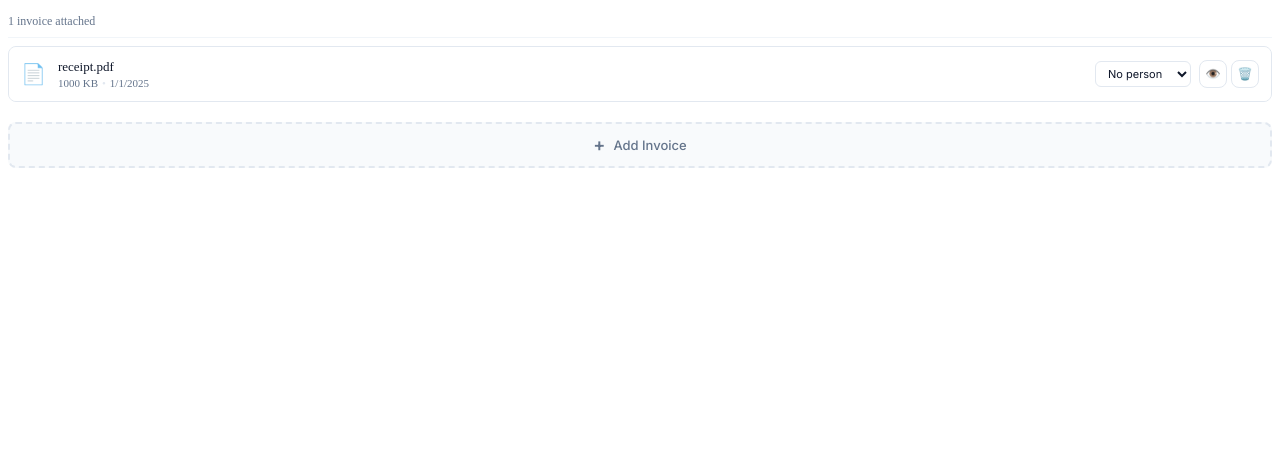
Test: InvoiceUpload Component › Upload with Person Selection › shows person dropdown in upload form when adding to existing invoices
The width and height of the screenshot is (1280, 449).
Click the button with aria-label "add another invoice".
click(640, 145)  # box top-left (8, 122), bottom-right (1272, 168)
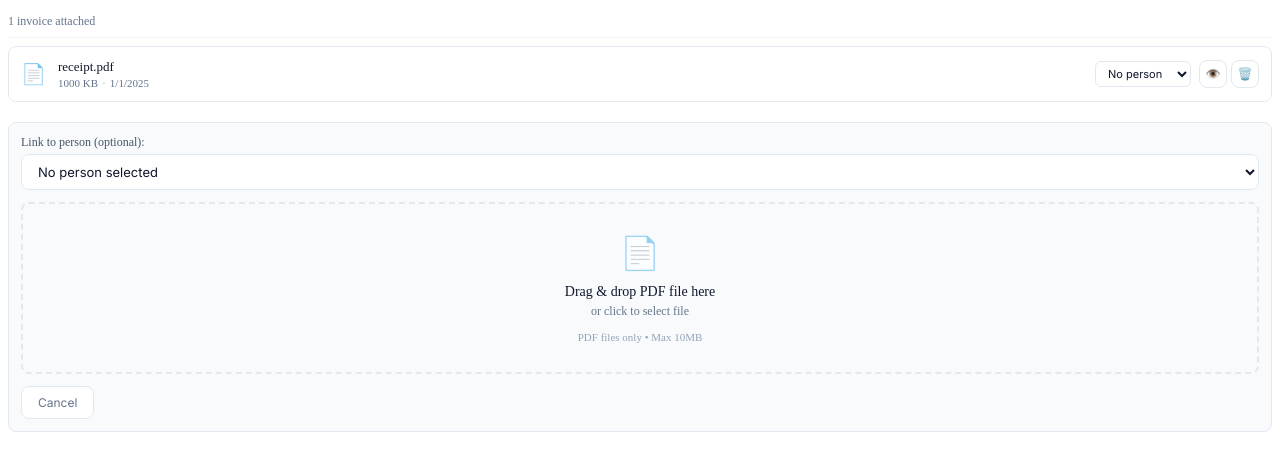
expect the dropdown labelled "Link to person (optional):" is shown: met, box top-left (21, 154), bottom-right (1259, 190)
